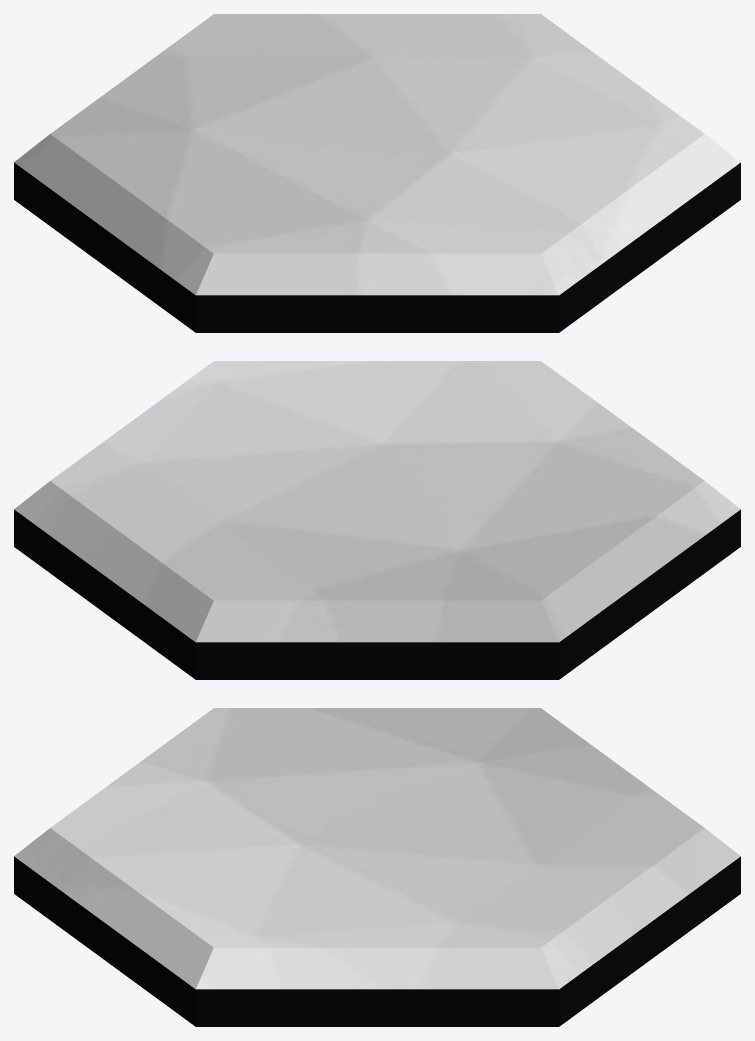
The model's file is tile.glb.
3 views of the same model, one above another, from view 1: azimuth 30°, elevation 25°; view 2: azimuth 150°, elevation 25°; view 3: azimuth 270°, elevation 25° (orthographic).
Parts seen in each view (by area): view 1: Cylinder; view 2: Cylinder; view 3: Cylinder.
Boxes of the visible parts, x1=… form: Cylinder: x1=14, y1=14, x2=740, y2=332; Cylinder: x1=14, y1=361, x2=740, y2=679; Cylinder: x1=14, y1=708, x2=740, y2=1026.
Size of the model in its own units: 1.73 by 0.2 by 2.
Materials: 2 (1 with a texture image).
